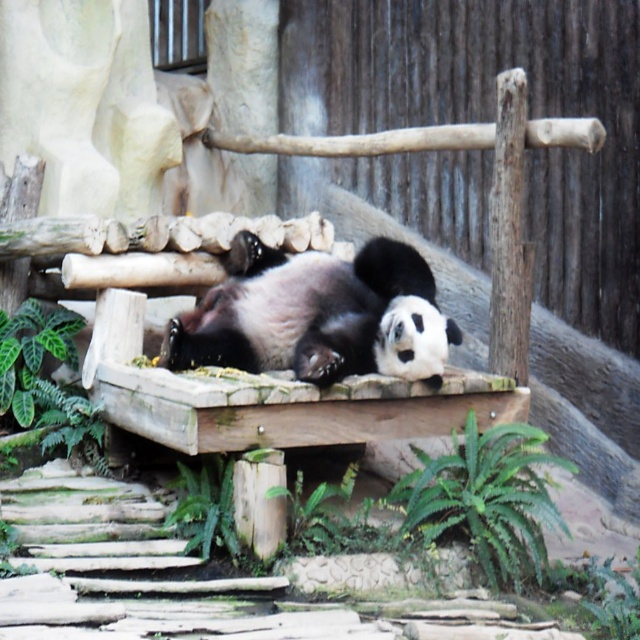Panda: (160, 226, 467, 391)
